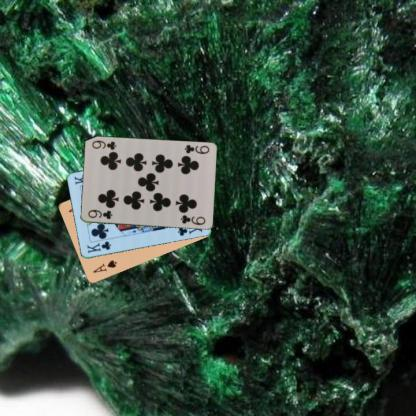9c: (85, 207, 113, 221), (182, 142, 210, 156)
As: (90, 258, 118, 274)
Kc: (84, 238, 112, 254)
